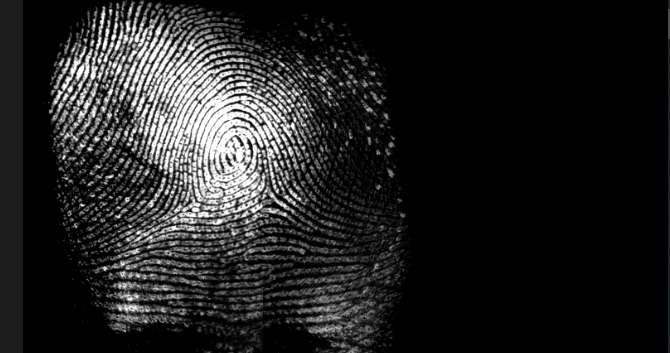deltas: (168, 182, 214, 218), (251, 179, 287, 214)
nucleo: (213, 131, 254, 168)
